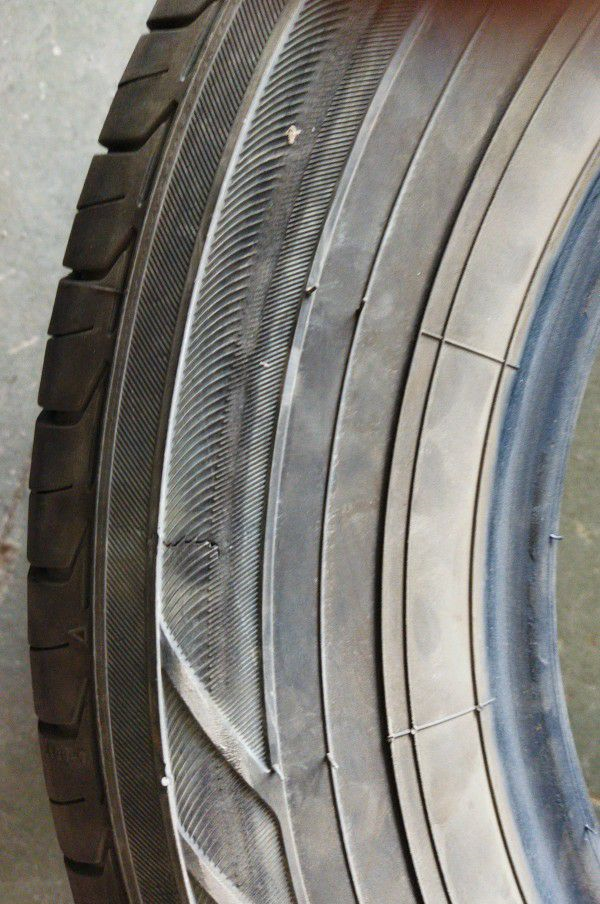cut: (158, 528, 245, 563)
